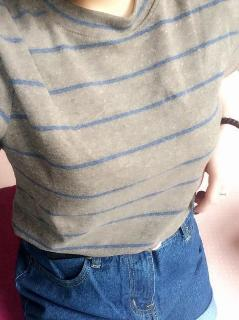shorts: (14, 202, 218, 319)
